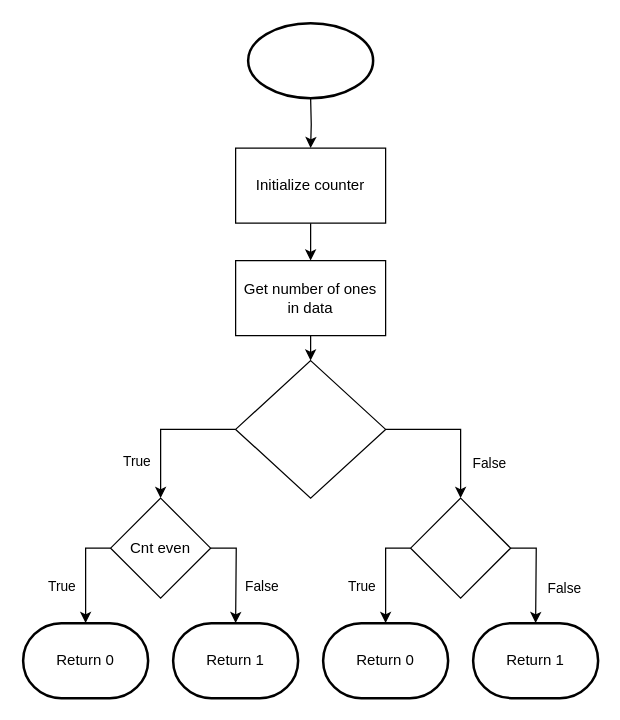
Image size: 620x720. Some labels were removed from this diagram. Here are the shapes that lost their labels. From the top down, the centre of each, then its label:
At point 310,60: "get_parity".
At point 310,428: "Type of parity even".
At point 460,547: "Cnt odd".
